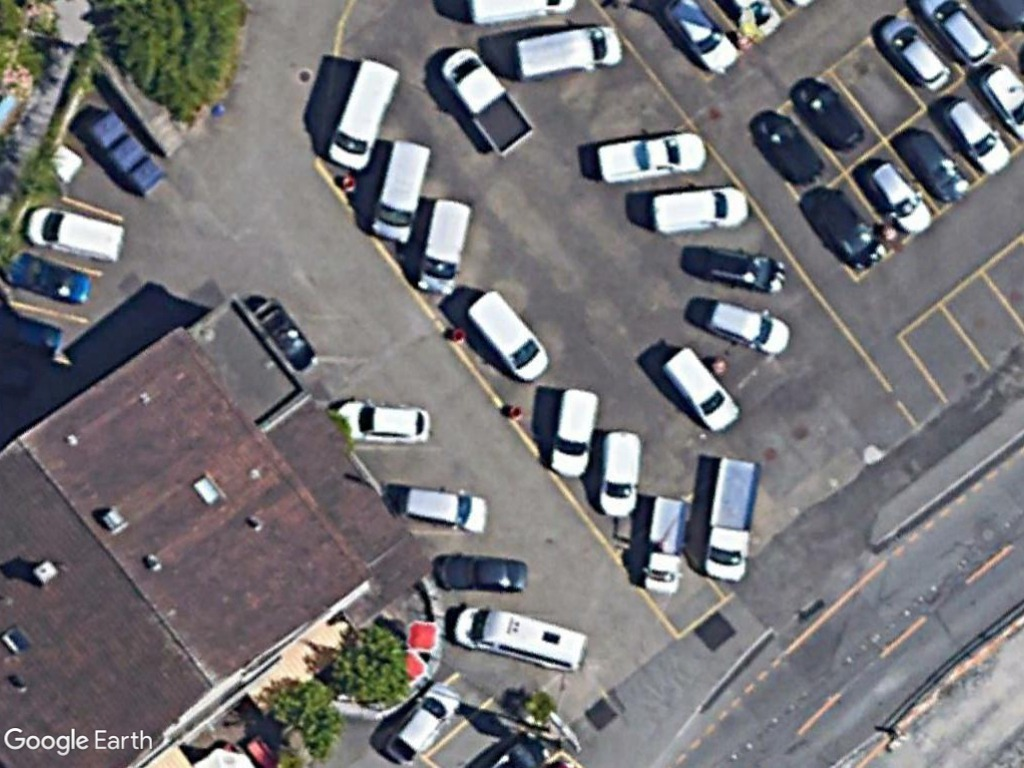car: (384, 679, 463, 768), (942, 93, 1012, 179), (875, 16, 953, 93), (327, 394, 434, 446), (864, 160, 935, 238), (702, 298, 792, 355), (393, 484, 490, 536), (436, 551, 530, 594)
others: (437, 46, 535, 159), (700, 454, 762, 586), (595, 130, 706, 183), (641, 491, 690, 595)
van: (448, 605, 591, 675), (325, 51, 403, 172), (463, 286, 555, 387), (657, 342, 743, 433), (368, 134, 431, 242), (513, 22, 622, 81), (416, 193, 475, 297), (22, 205, 124, 263), (647, 181, 748, 238), (549, 386, 600, 482), (597, 428, 641, 520)
